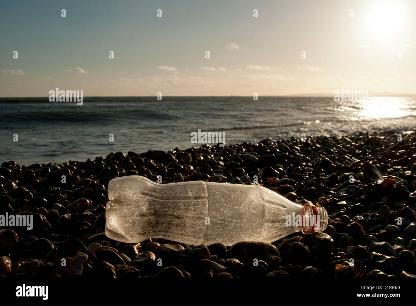Plastic Bottle: (104, 175, 328, 247)
